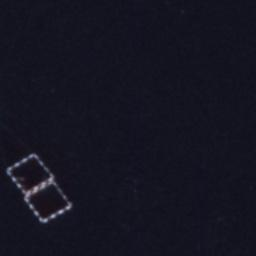square_solid: (22, 178, 75, 226), (4, 151, 55, 198)
